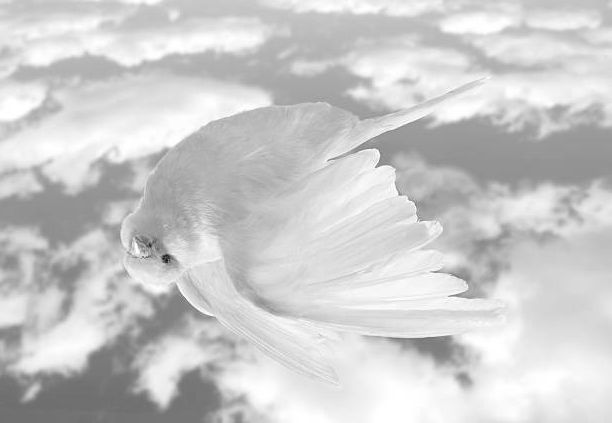Bird: (106, 70, 510, 396)
